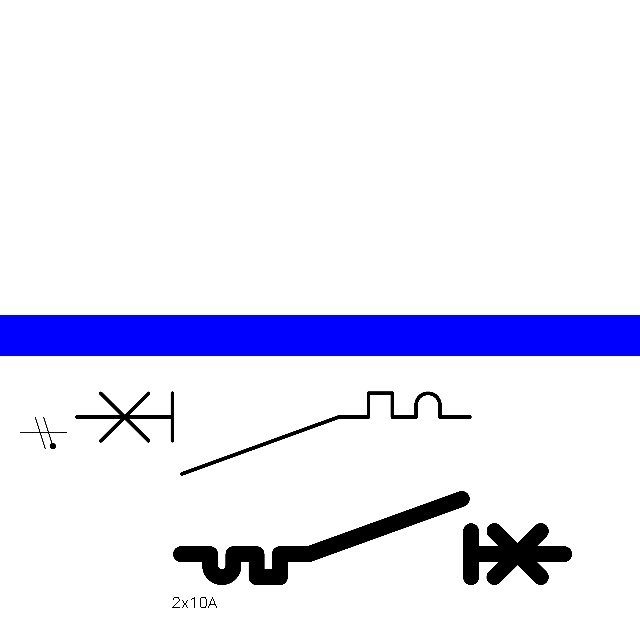interruptor_termomagnetico: (66, 383, 480, 484), (171, 489, 574, 587)
